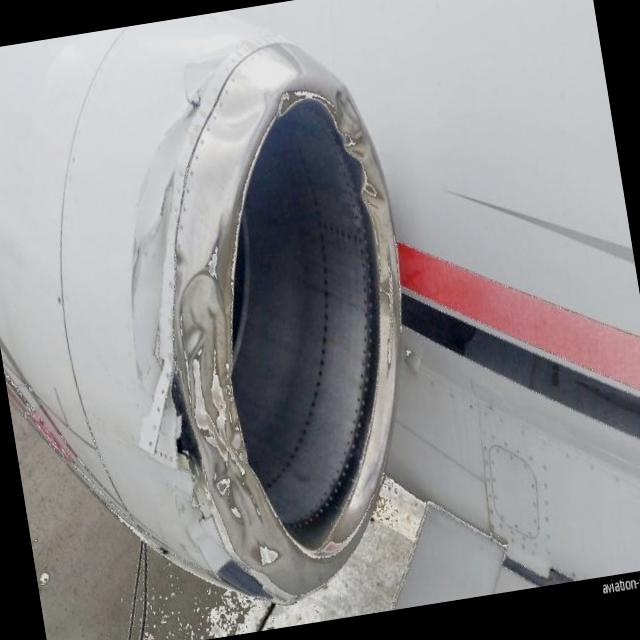dent: (173, 272, 225, 360), (333, 89, 373, 168), (205, 94, 268, 142), (358, 179, 391, 221)
